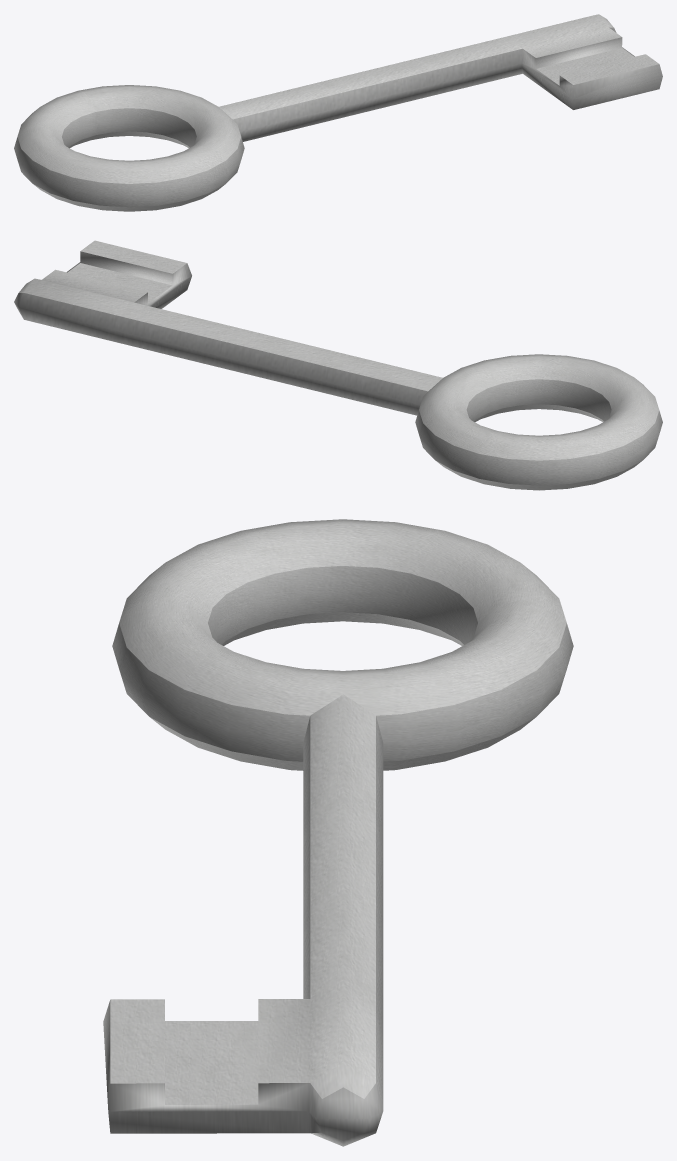
Rendered from key3.FBX.
3 views of the same model, one above another, from view 1: azimuth 30°, elevation 25°; view 2: azimuth 150°, elevation 25°; view 3: azimuth 270°, elevation 25° (orthographic). The views are drawn at different scales.
Parts seen in each view (by area): view 1: Torus001; view 2: Torus001; view 3: Torus001.
Part boxes in pixels (x1,y1,x2,y2): Torus001: [14, 14, 662, 211]; Torus001: [14, 240, 662, 490]; Torus001: [103, 519, 573, 1146].
Bounding box in the file's own units: 42.97 × 3.27 × 15.03.
Materials: 1 (1 with a texture image).
